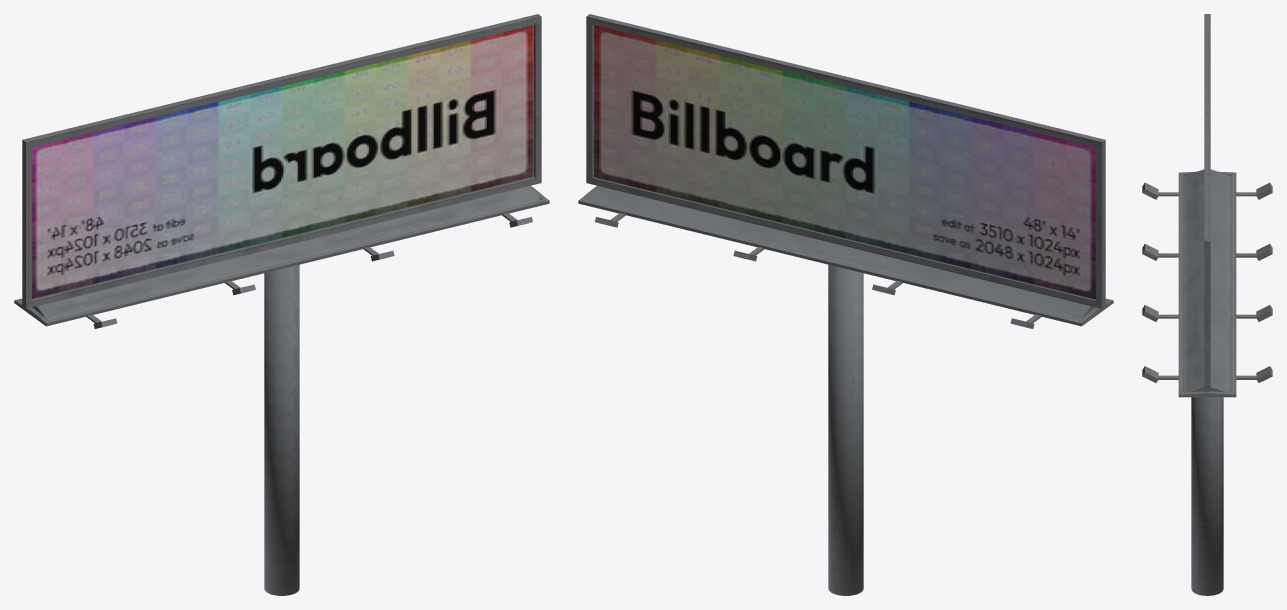
File: billboard.back-v1.lod1.glb
3 views of the same model, side by side, from view 1: azimuth 30°, elevation 25°; view 2: azimuth 150°, elevation 25°; view 3: azimuth 270°, elevation 25° (orthographic). The views are drawn at different scales.
Visible parts, largest first — view 1: Object_4, Object_5; view 2: Object_4, Object_5; view 3: Object_5.
Part boxes in pixels (<box>): Object_4: <box>32,25,533,298</box>; Object_5: <box>14,14,549,595</box>; Object_4: <box>594,25,1095,299</box>; Object_5: <box>578,14,1113,595</box>; Object_5: <box>1142,14,1272,595</box>.
Bounding box in the file's own units: 7.93 × 7.5 × 1.92.
Materials: 2 (2 with a texture image).
